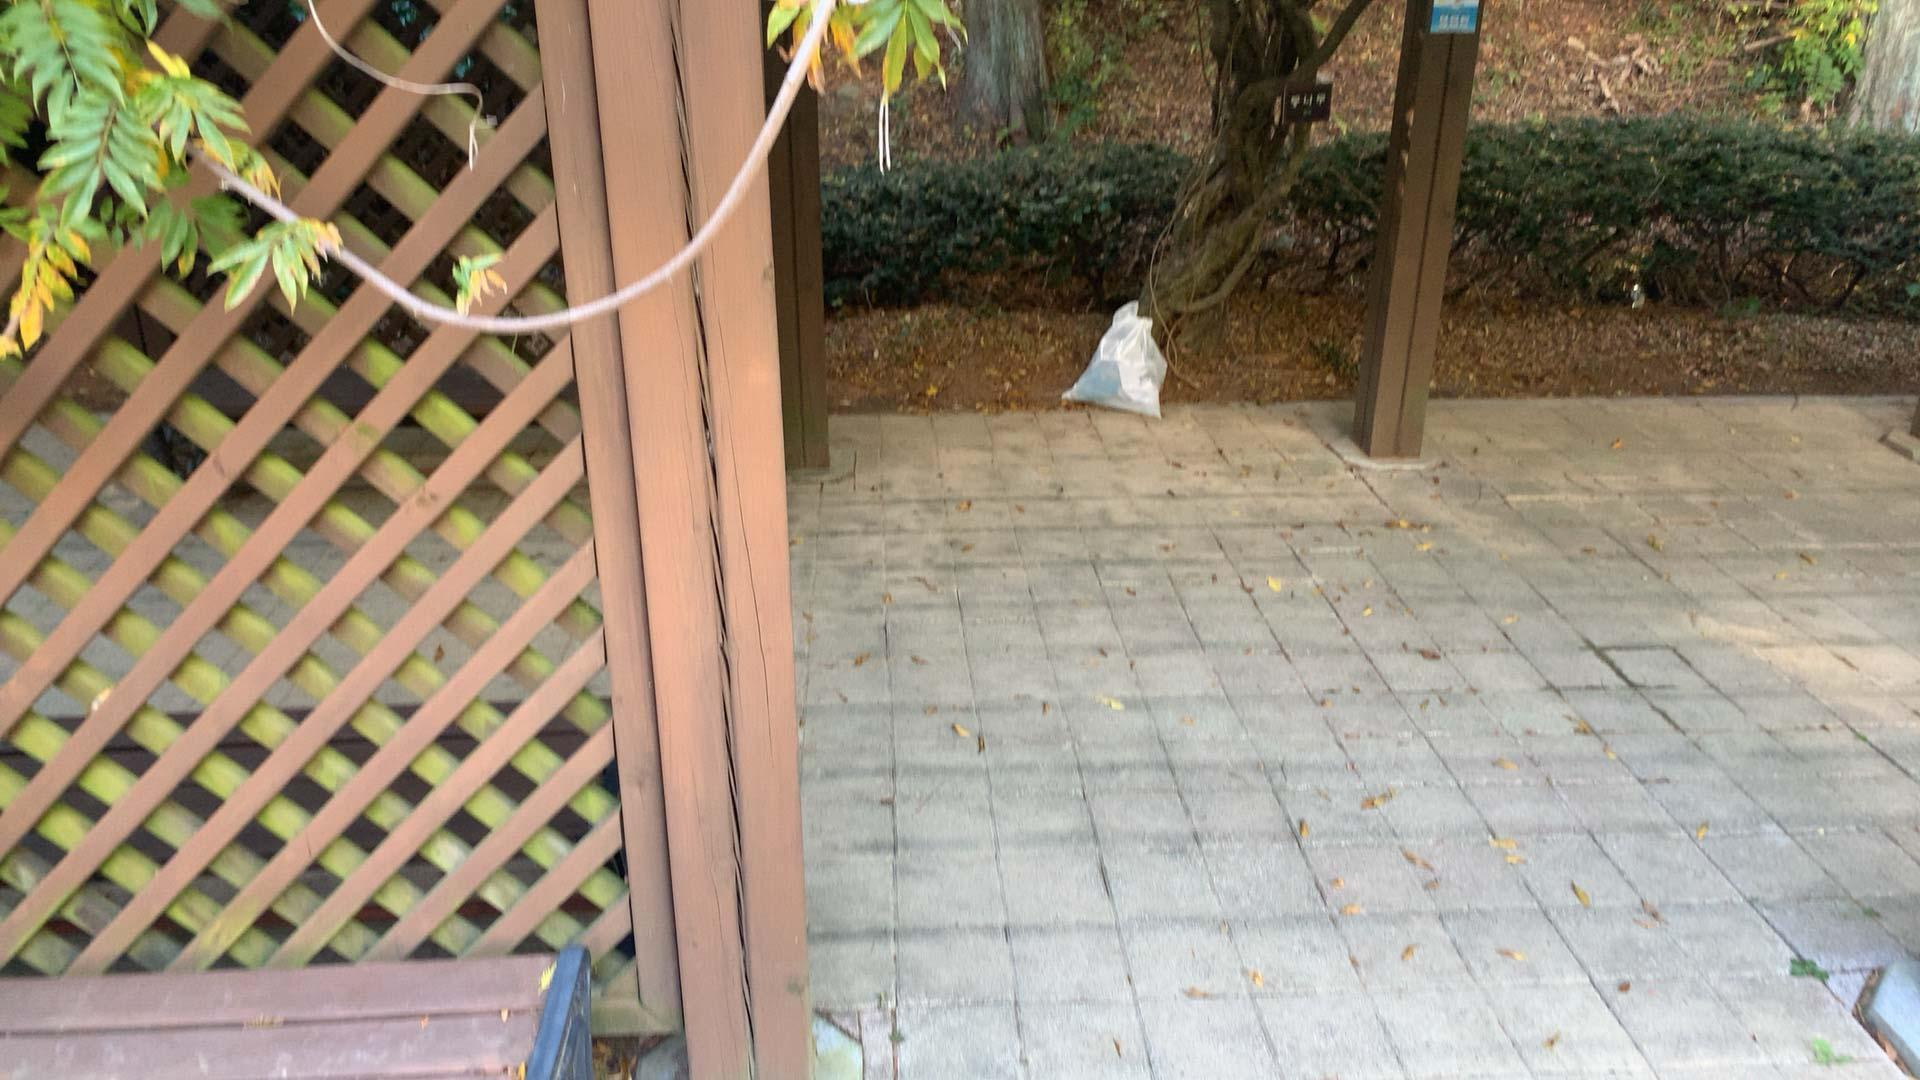white_bag: (1046, 291, 1179, 425)
